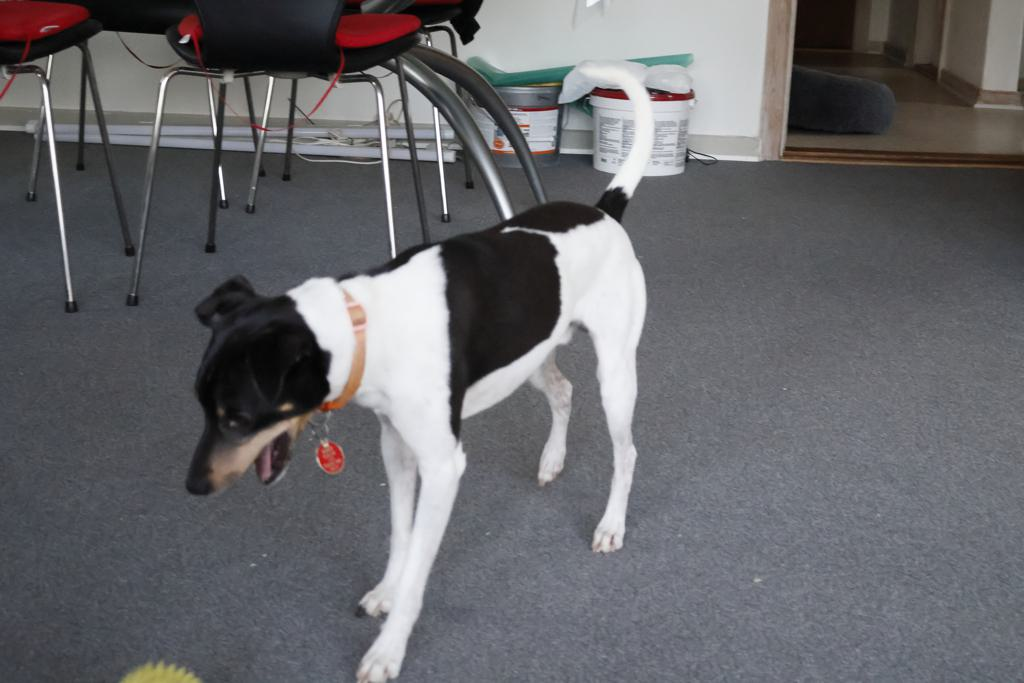Dog: (176, 54, 668, 683)
